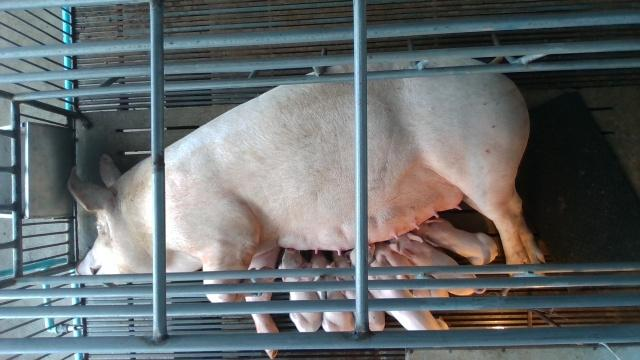piglet: (349, 244, 448, 328), (392, 234, 486, 296), (331, 253, 387, 331), (411, 218, 498, 265), (376, 242, 448, 298), (306, 252, 355, 330), (278, 248, 322, 332)
sow-sleep-lactate: (67, 58, 544, 360)
